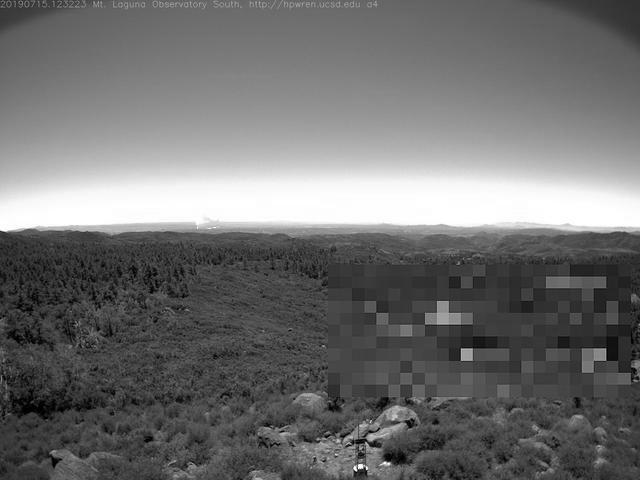smoke: (196, 209, 221, 230)
